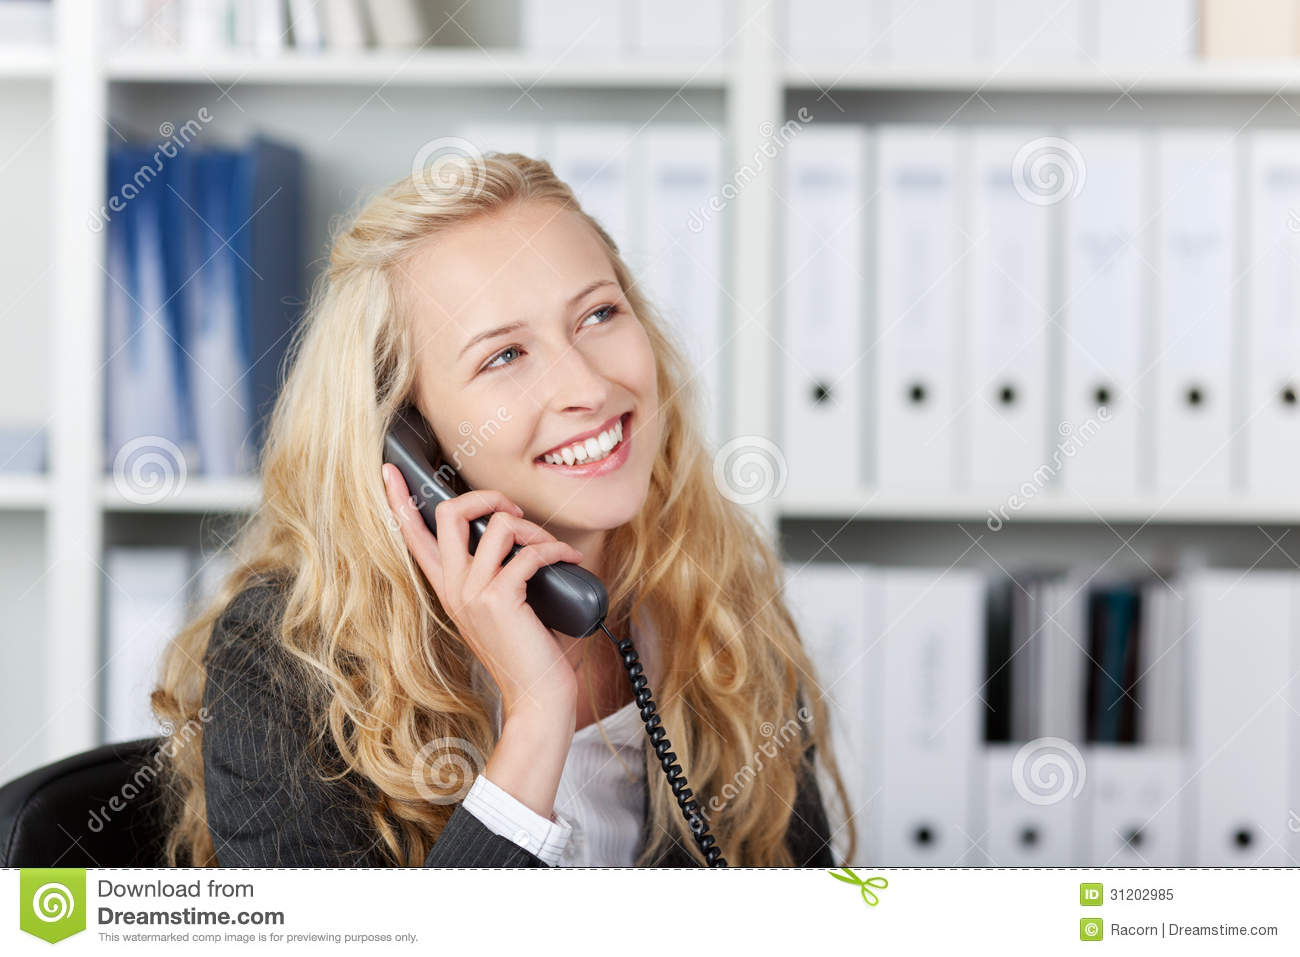phone: (384, 400, 602, 639)
talk: (380, 261, 661, 740)
